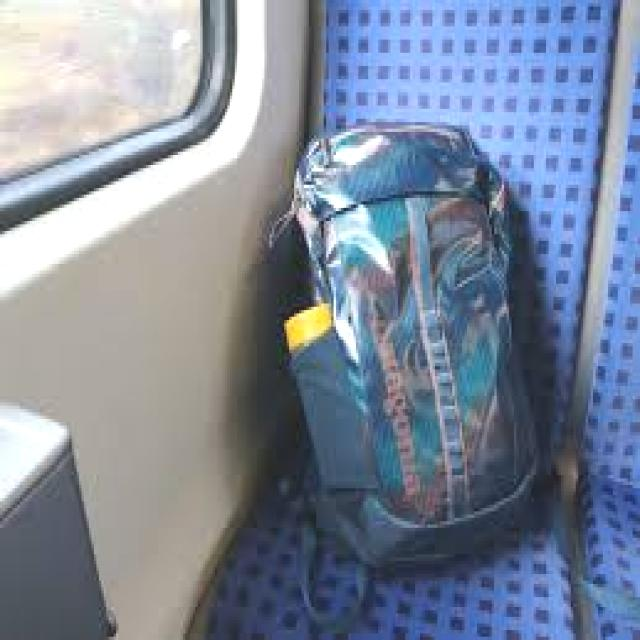backpack: (250, 122, 566, 580)
